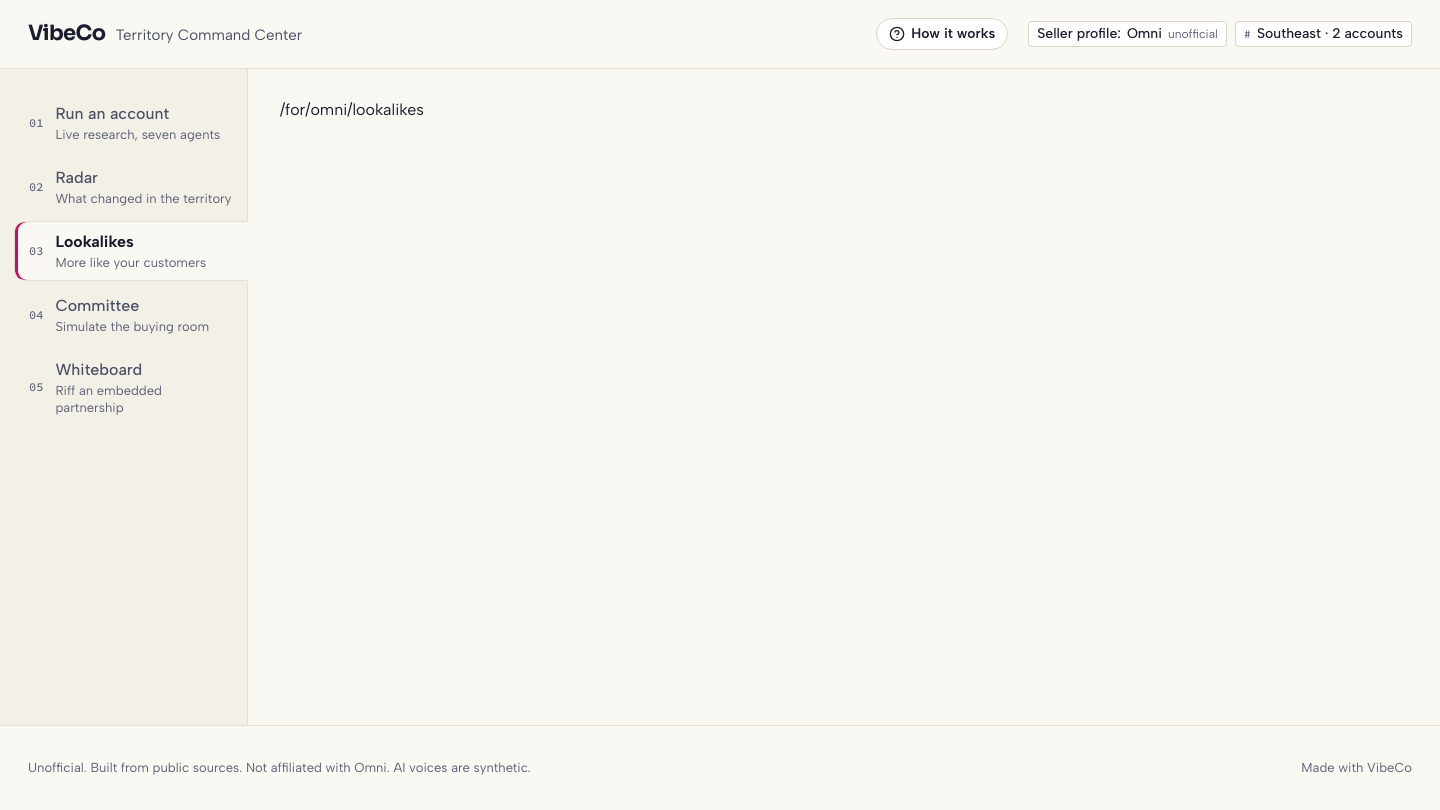
Scenario: rail links › follow the URL's account, then the session's, then the first
Later steps or results of the test are not shown.
What coordinates should you click on to do the following:
click the link "05 Whiteboard Riff an embedded partnership"
I would click on:
 (95, 387)
Its box is [29,360,162,415].
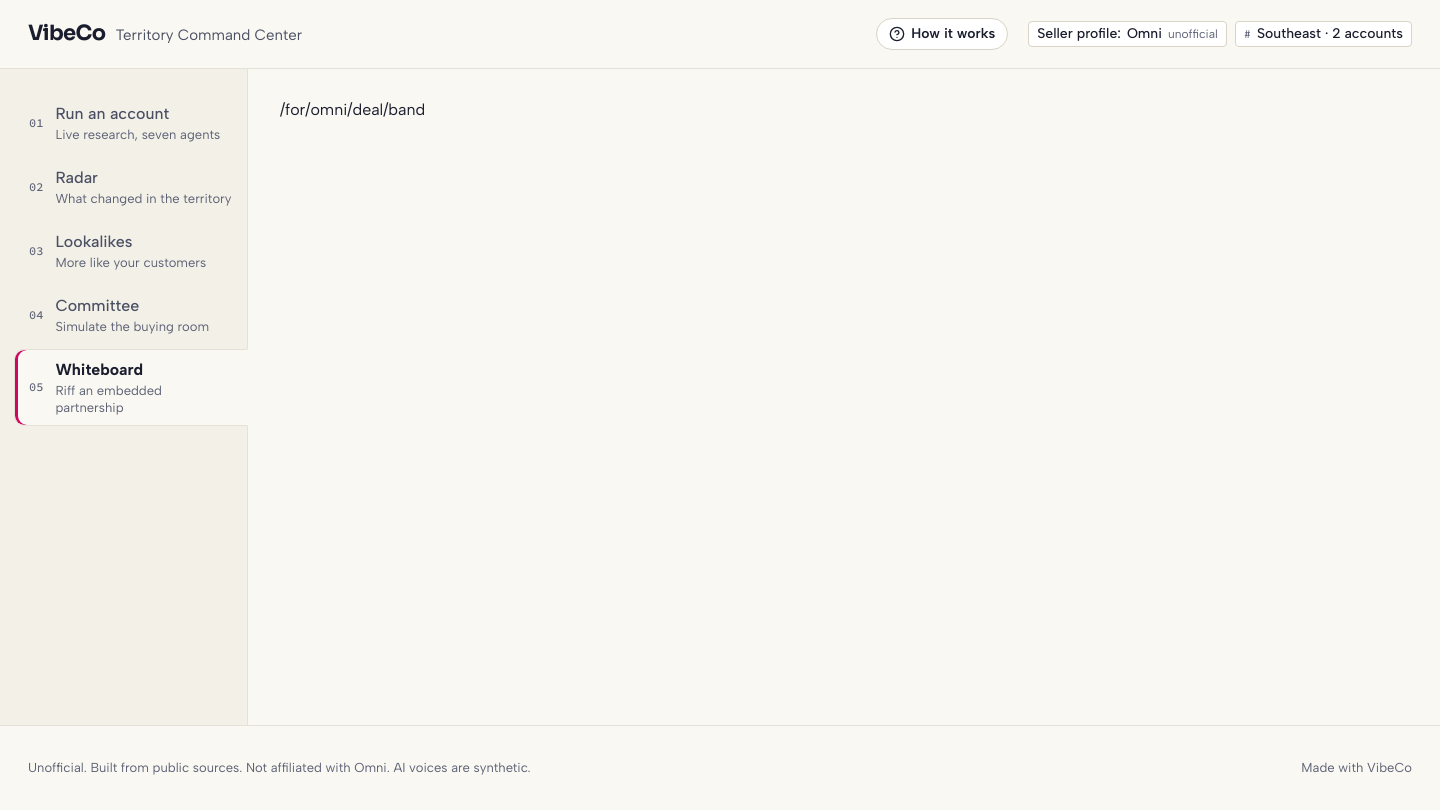
Result: the text with test id "where" reads "/for/omni/deal/band" at [280,100,425,119]
